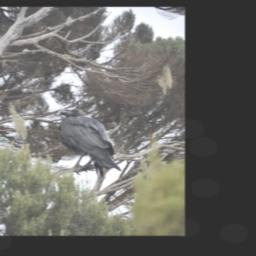Crow: (58, 108, 121, 181)
